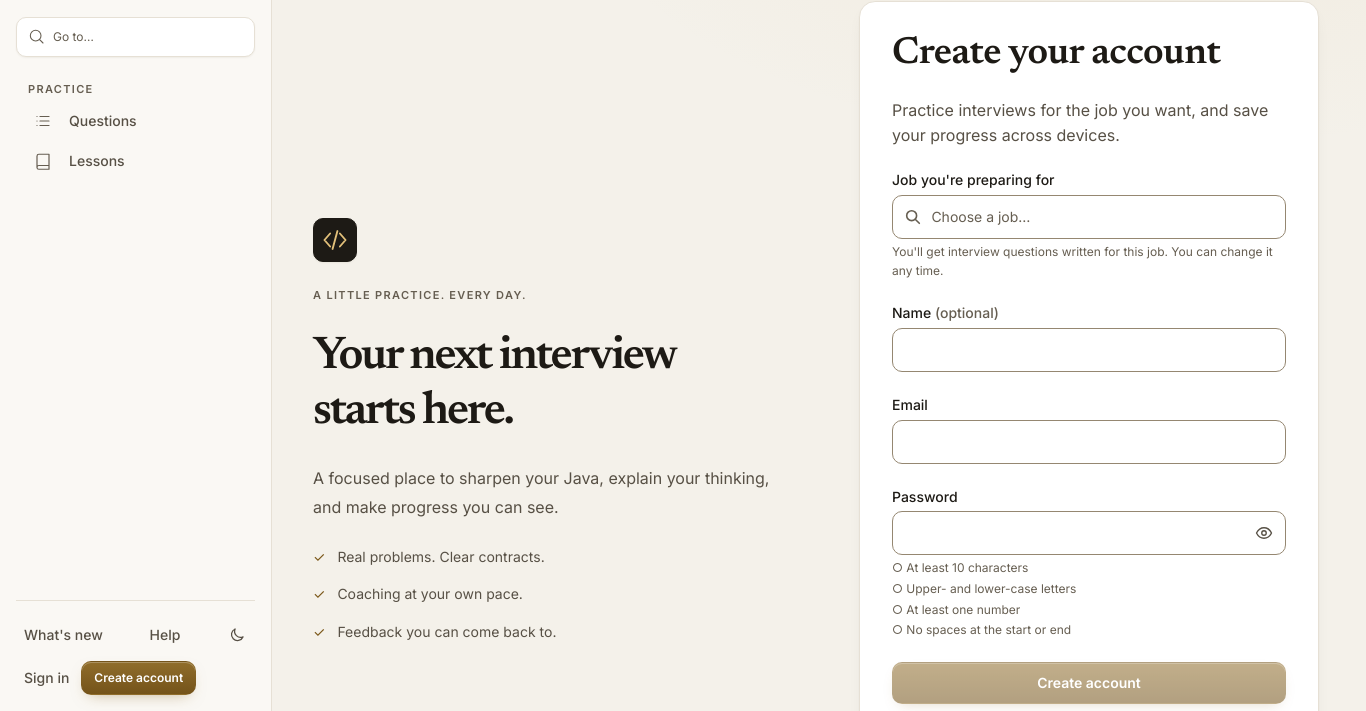
Scenario: if the resend's reply is lost too, the page says the account may exist and how to finish, without guessing
Later steps or results of the test are not shown.
Type "ada@example.com" into the field labelled "Email".
click(1089, 442); type("ada@example.com")  # box x1=892 y1=420 x2=1286 y2=464
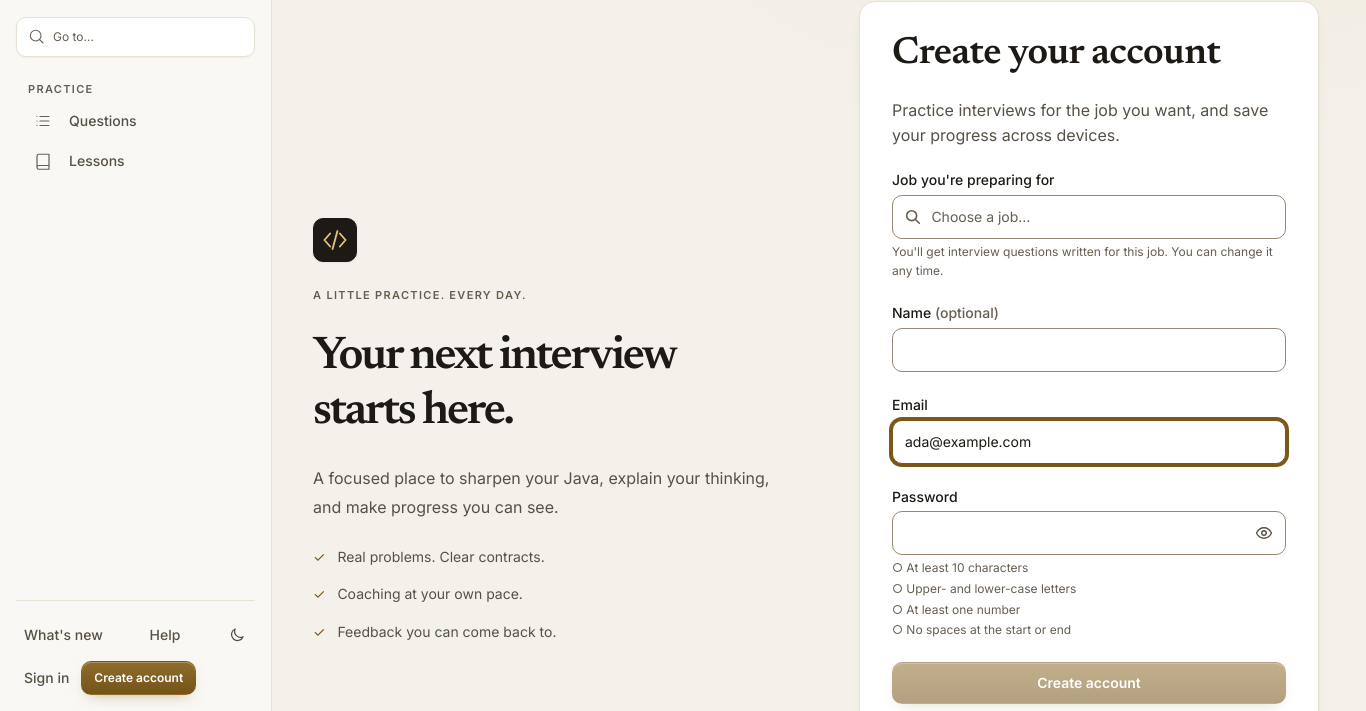
Type "CorrectHorse42" into the password field labelled "Password".
click(1089, 533); type("CorrectHorse42")  # box x1=892 y1=511 x2=1286 y2=555
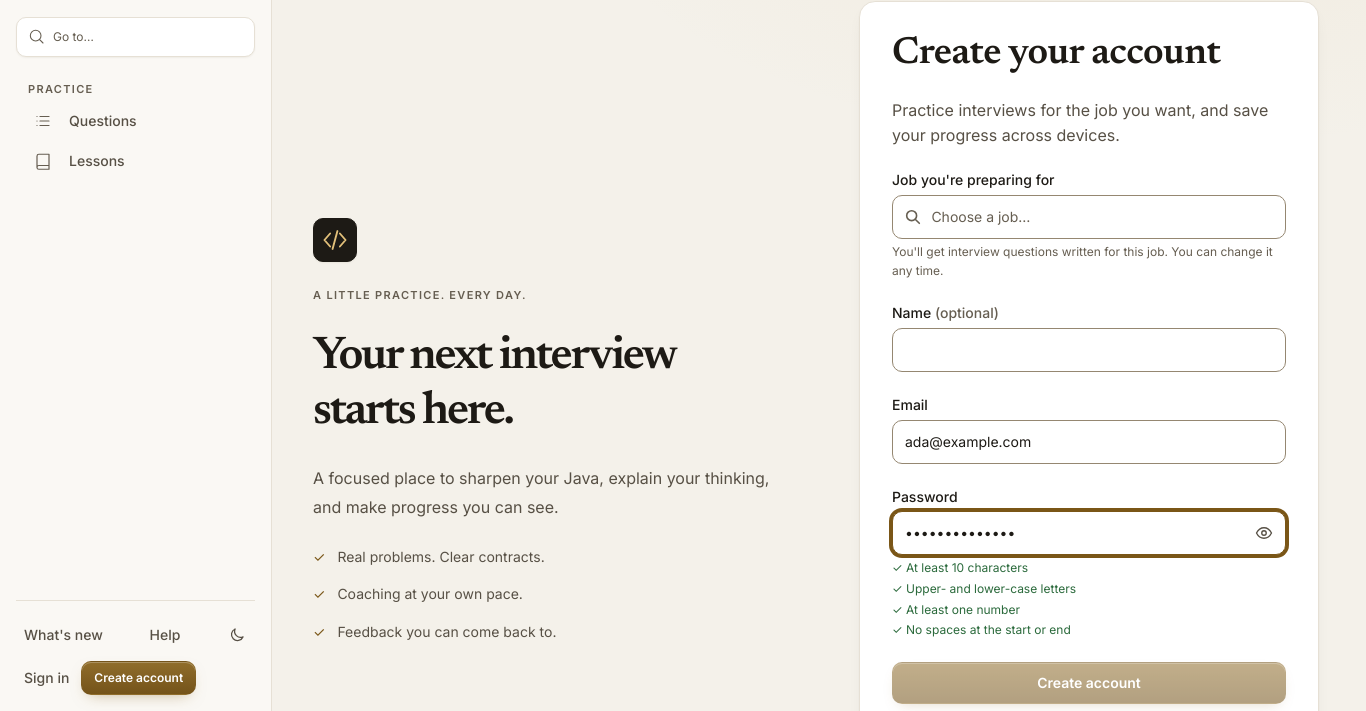
Type "registered nurse" into the dropdown labelled "Job you're preparing for".
click(1089, 217); type("registered nurse")  # box x1=892 y1=195 x2=1286 y2=239
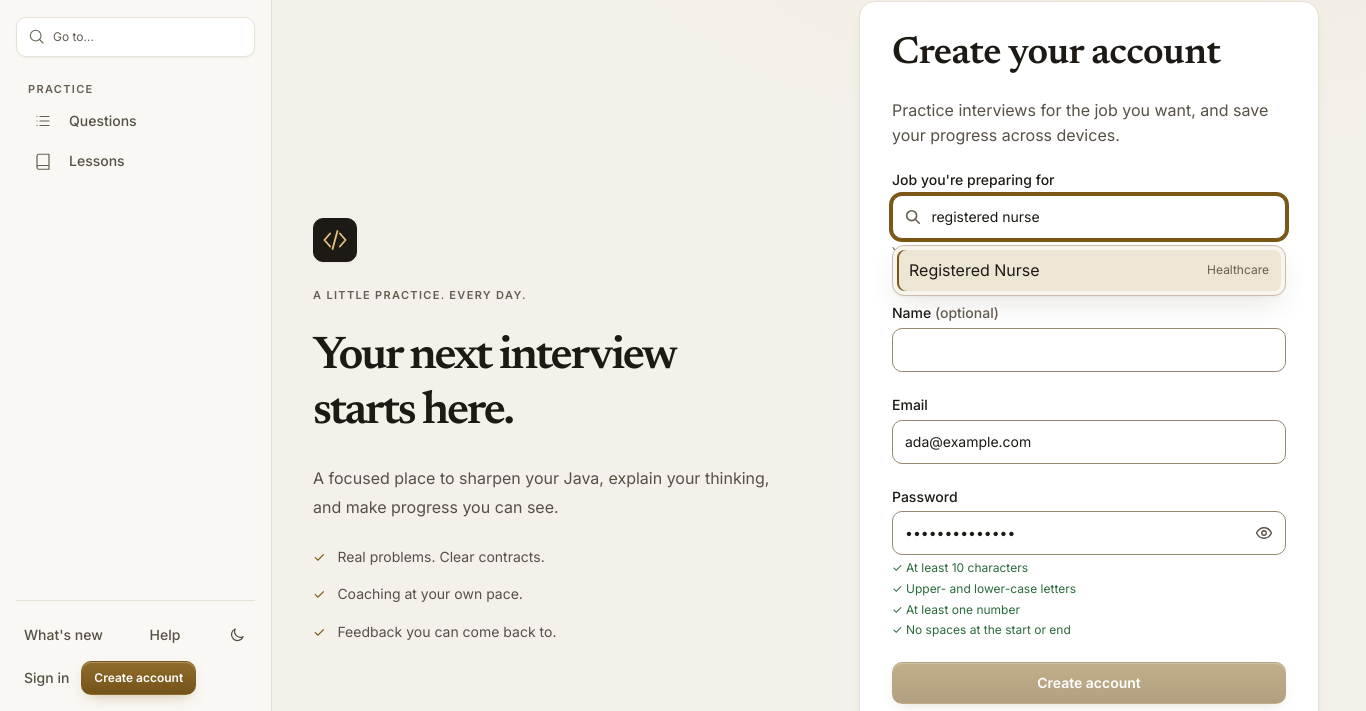
Click the option "Registered Nurse Healthcare".
click(974, 270)  # box x1=897 y1=250 x2=1281 y2=291
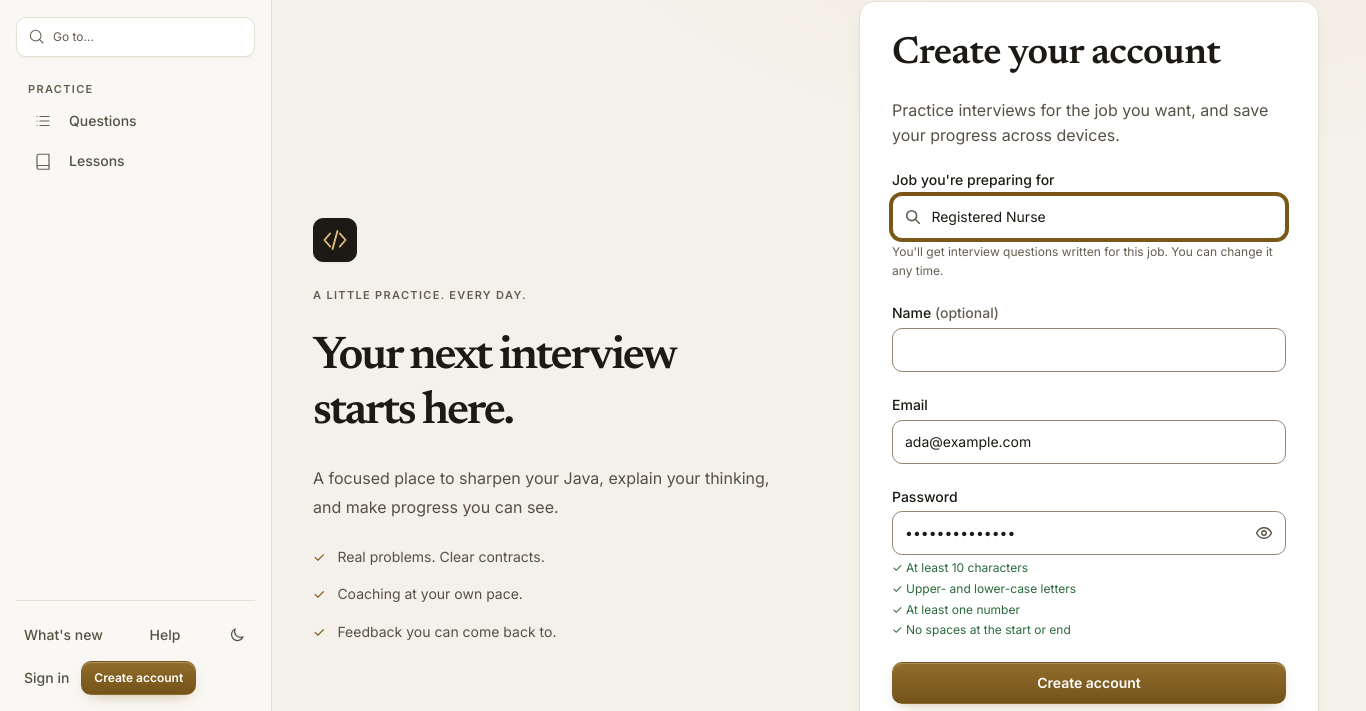
Click the button "Create account".
click(1089, 683)  # box x1=892 y1=662 x2=1286 y2=704
(page scrolled)
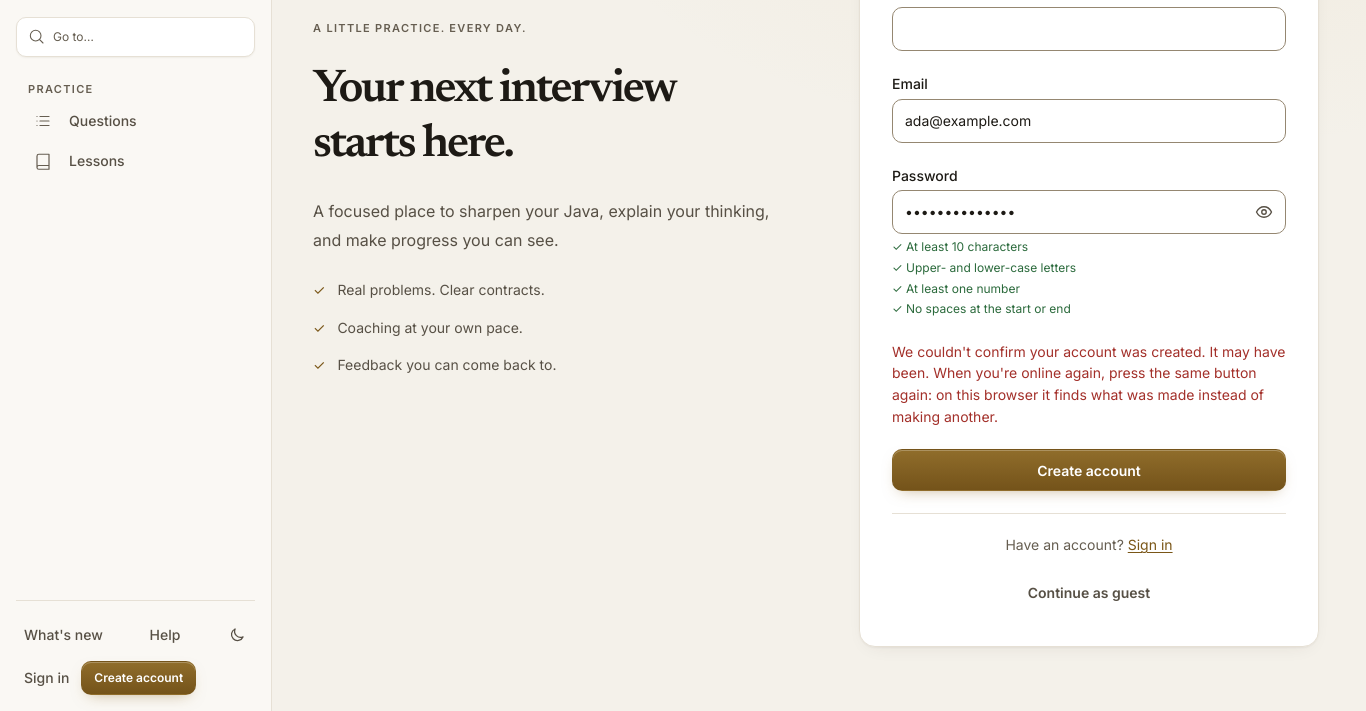
Check: the message shows "We couldn't confirm your account was created. It may have been.", box x1=892 y1=343 x2=1285 y2=425
Check: the message shows "press the same button again", box x1=892 y1=343 x2=1285 y2=425
